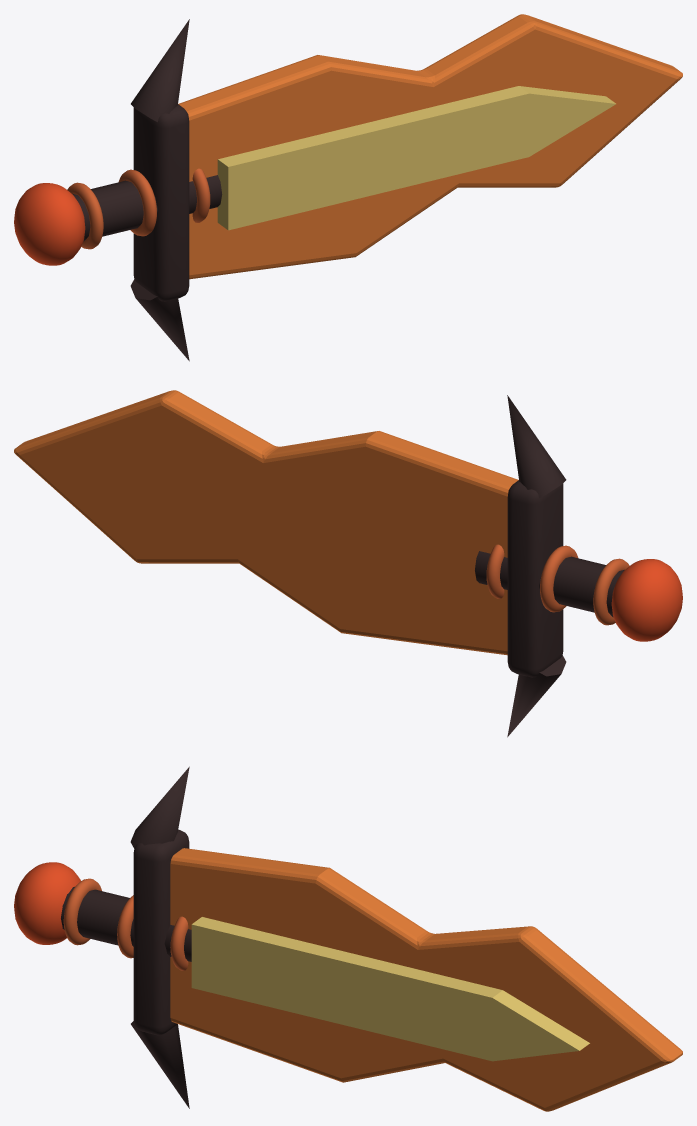
The model's file is wpn_emberblade.glb.
3 views of the same model, one above another, from view 1: azimuth 30°, elevation 25°; view 2: azimuth 150°, elevation 25°; view 3: azimuth 330°, elevation 25° (orthographic).
Parts seen in each view (by area): view 1: object 1, cone.001, cone, torus.001, torus, torus.002; view 2: object 1, cone.001, cone, torus.001, torus, torus.002; view 3: object 1, cone.001, cone, torus, torus.001, torus.002.
Part boxes in pixels (x1=…): object 1: x1=14, y1=14, x2=682, y2=301; cone.001: x1=131, y1=19, x2=189, y2=122; cone: x1=130, y1=279, x2=189, y2=361; torus.001: x1=118, y1=169, x2=156, y2=236; torus: x1=67, y1=182, x2=103, y2=249; torus.002: x1=192, y1=168, x2=210, y2=222; object 1: x1=14, y1=390, x2=682, y2=677; cone.001: x1=507, y1=395, x2=566, y2=498; cone: x1=507, y1=655, x2=566, y2=737; torus.001: x1=540, y1=545, x2=578, y2=612; torus: x1=593, y1=558, x2=629, y2=625; torus.002: x1=486, y1=544, x2=504, y2=598; object 1: x1=14, y1=829, x2=682, y2=1111; cone.001: x1=130, y1=766, x2=189, y2=848; cone: x1=131, y1=1021, x2=189, y2=1108; torus: x1=63, y1=878, x2=101, y2=945; torus.001: x1=117, y1=895, x2=133, y2=958; torus.002: x1=170, y1=916, x2=188, y2=970.
Bounding box in the file's own units: 1.36 × 0.6755 × 0.15.
